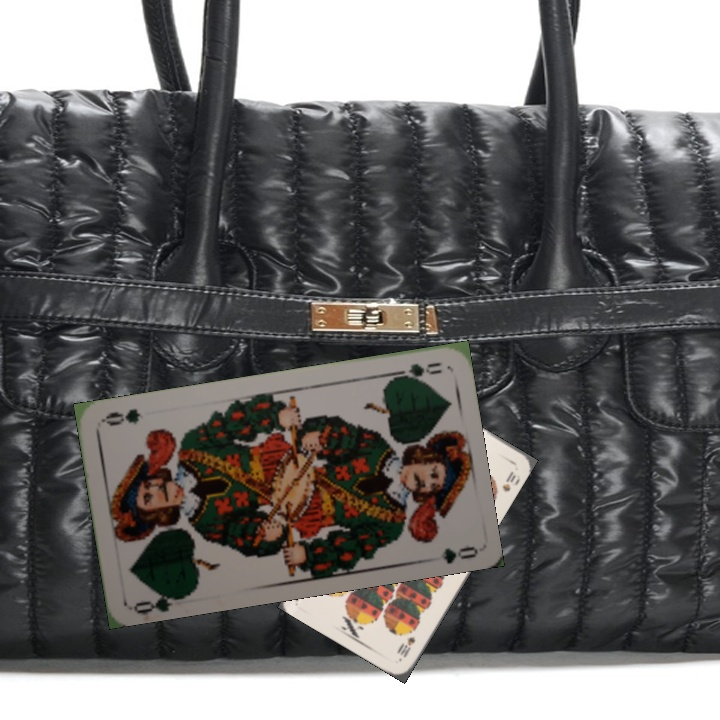GO: (130, 586, 189, 616), (387, 358, 445, 384)
S10: (394, 632, 418, 660)
